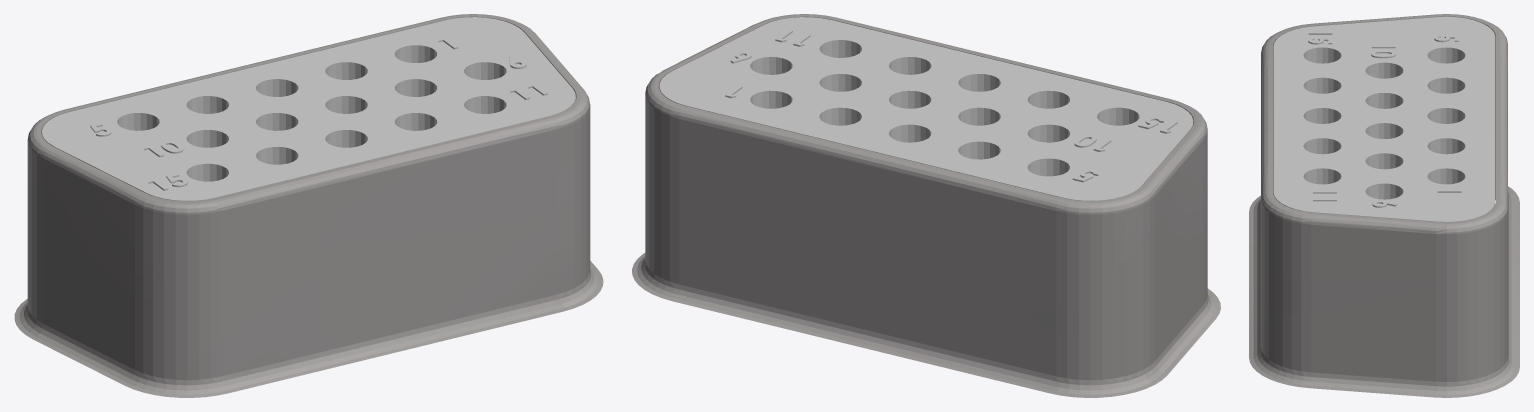
Rendered from VGA port.fbx.
3 views of the same model, side by side, from view 1: azimuth 30°, elevation 25°; view 2: azimuth 150°, elevation 25°; view 3: azimuth 270°, elevation 25° (orthographic). The views are drawn at different scales.
Parts seen in each view (by area): view 1: shell, plastic, numbers; view 2: shell, plastic, numbers; view 3: shell, plastic, numbers.
Part boxes in pixels (x1,y1,x2,y2): shell: [14, 14, 603, 397]; plastic: [42, 17, 575, 201]; numbers: [90, 37, 547, 190]; shell: [632, 14, 1220, 397]; plastic: [659, 17, 1193, 201]; numbers: [725, 29, 1177, 182]; shell: [1249, 14, 1519, 397]; plastic: [1273, 16, 1495, 222]; numbers: [1308, 29, 1461, 207].
Size of the model in its own units: 0.1709 by 0.0589 by 0.0866.
